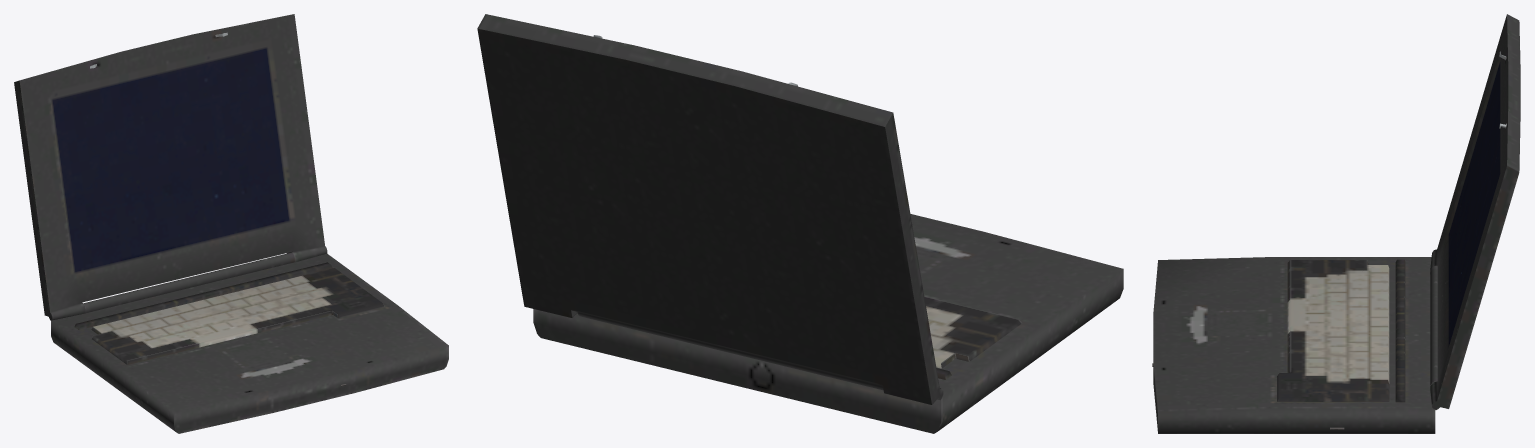
Rendered from 041_laptop.fbx.
3 views of the same model, side by side, from view 1: azimuth 30°, elevation 25°; view 2: azimuth 150°, elevation 25°; view 3: azimuth 270°, elevation 25° (orthographic). The views are drawn at different scales.
Visible parts, largest first — view 1: LOD_1_Group_2_Sub_1__sm31_041_Laptop01A_A_Mat1, LOD_1_Group_0_Sub_1__sm31_041_Laptop01A_A_Mat1, LOD_1_Group_1_Sub_1__sm31_041_Laptop01A_A_Mat1; view 2: LOD_1_Group_2_Sub_1__sm31_041_Laptop01A_A_Mat1, LOD_1_Group_0_Sub_1__sm31_041_Laptop01A_A_Mat1, LOD_1_Group_1_Sub_1__sm31_041_Laptop01A_A_Mat1; view 3: LOD_1_Group_0_Sub_1__sm31_041_Laptop01A_A_Mat1, LOD_1_Group_2_Sub_1__sm31_041_Laptop01A_A_Mat1, LOD_1_Group_1_Sub_1__sm31_041_Laptop01A_A_Mat1.
Part boxes in pixels (<box>): LOD_1_Group_2_Sub_1__sm31_041_Laptop01A_A_Mat1: <box>14,14,327,320</box>; LOD_1_Group_0_Sub_1__sm31_041_Laptop01A_A_Mat1: <box>51,252,448,433</box>; LOD_1_Group_1_Sub_1__sm31_041_Laptop01A_A_Mat1: <box>74,262,384,364</box>; LOD_1_Group_2_Sub_1__sm31_041_Laptop01A_A_Mat1: <box>477,14,943,404</box>; LOD_1_Group_0_Sub_1__sm31_041_Laptop01A_A_Mat1: <box>533,214,1123,433</box>; LOD_1_Group_1_Sub_1__sm31_041_Laptop01A_A_Mat1: <box>924,296,1021,379</box>; LOD_1_Group_0_Sub_1__sm31_041_Laptop01A_A_Mat1: <box>1152,257,1437,433</box>; LOD_1_Group_2_Sub_1__sm31_041_Laptop01A_A_Mat1: <box>1430,14,1520,409</box>; LOD_1_Group_1_Sub_1__sm31_041_Laptop01A_A_Mat1: <box>1277,259,1405,402</box>.
Bounding box in the file's own units: 0.3809 × 0.3229 × 0.3911.
